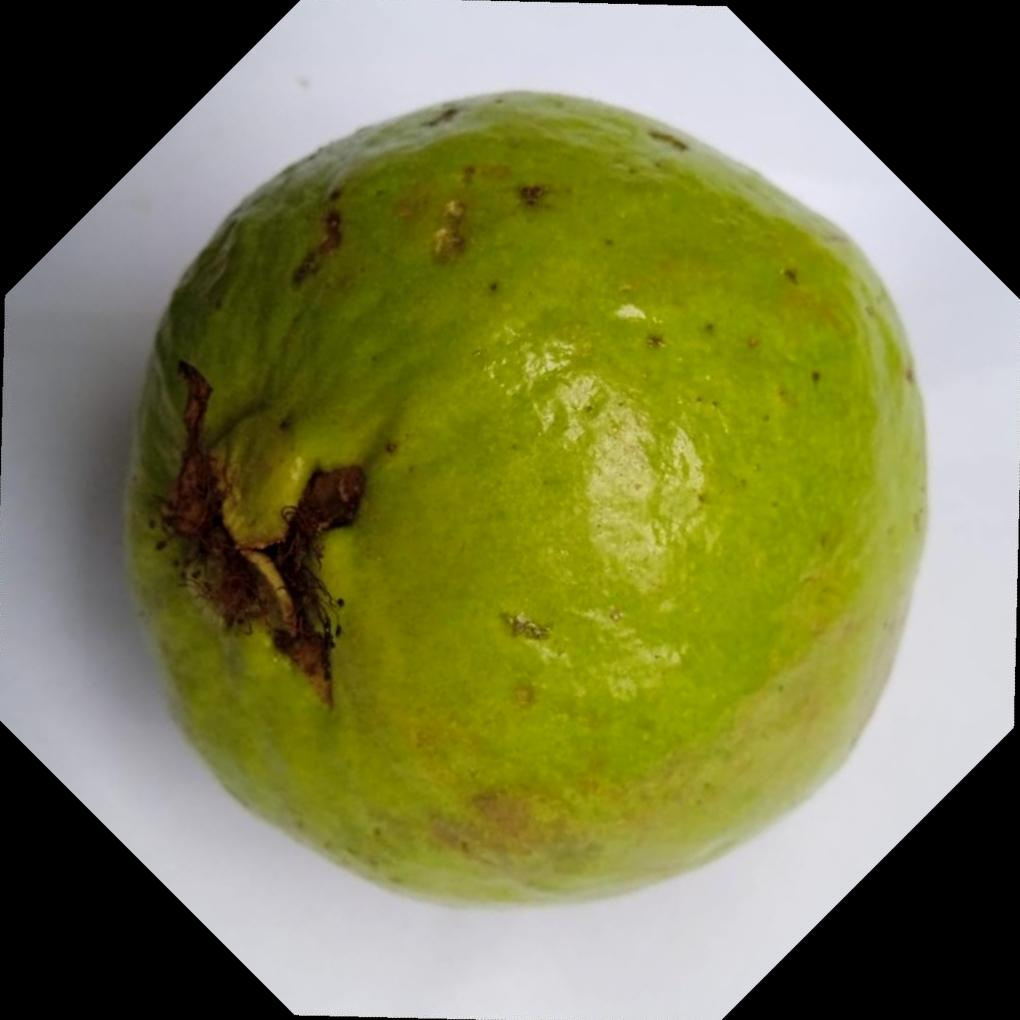FreshGuava: (123, 84, 938, 909)
